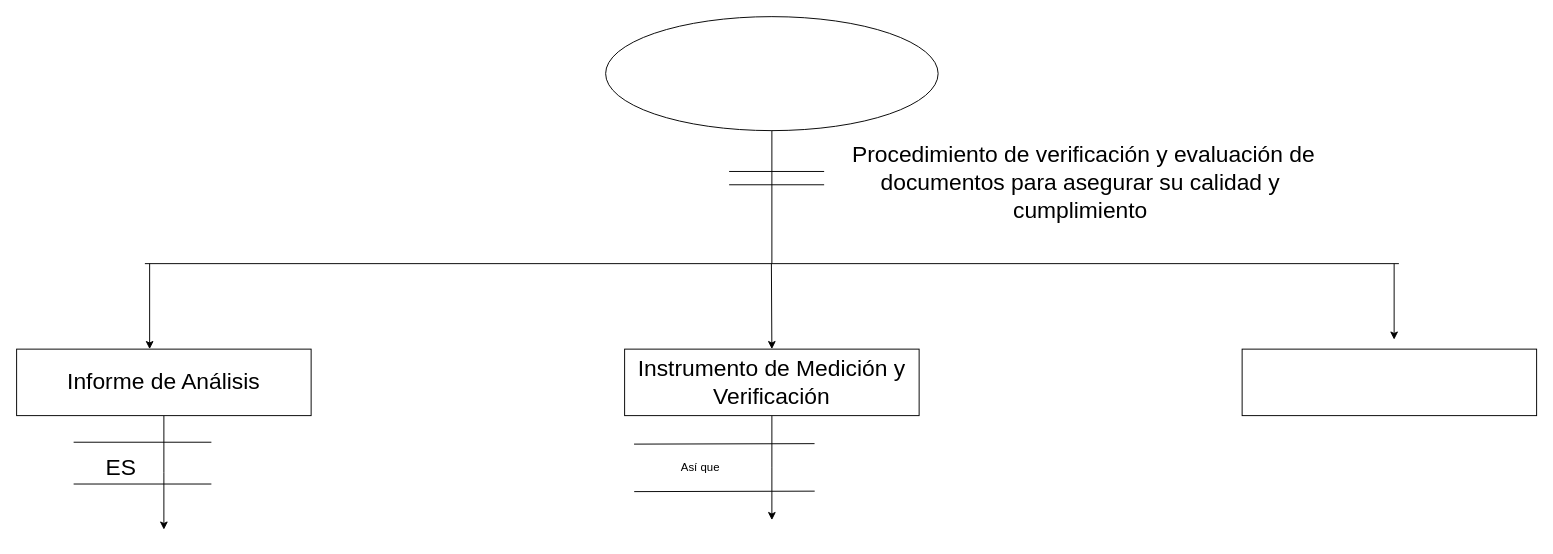
The diagram is 1553 pixels wide and 554 high, and some of its shapes have lost their labels. The centre of each missing label's shape, as x and y in pixels:
"Trazabilidad" belongs at point (1389, 382).
"Validación de Documentos" belongs at point (771, 73).
